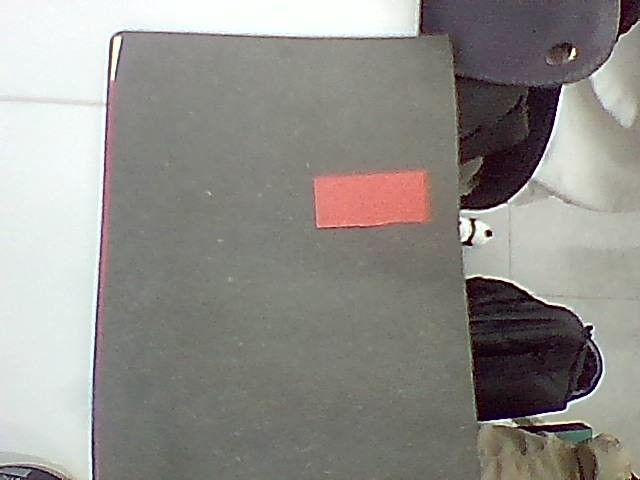card: (314, 170, 429, 228)
